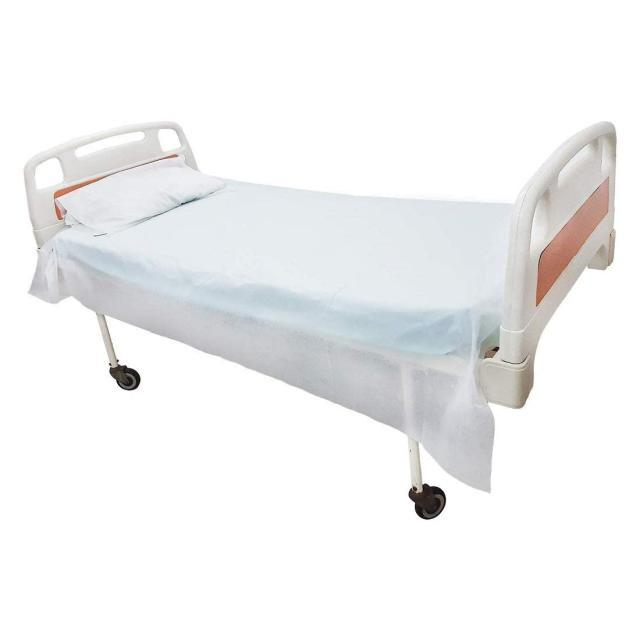bed: (22, 118, 616, 520)
